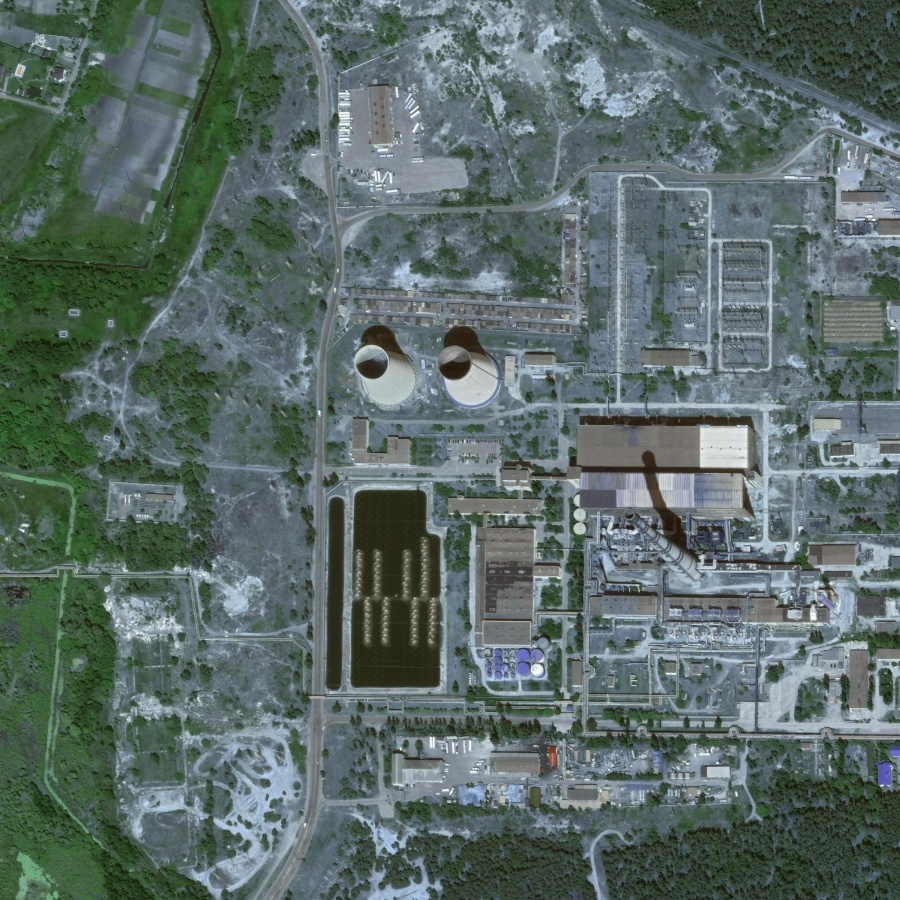PowerPlant: (315, 302, 768, 702)
